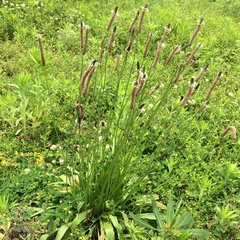buckhorn plantain: (27, 5, 191, 226)
